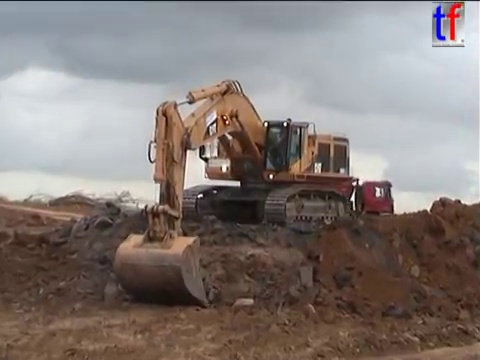excavator: (110, 77, 357, 309)
truck: (274, 177, 396, 228)
